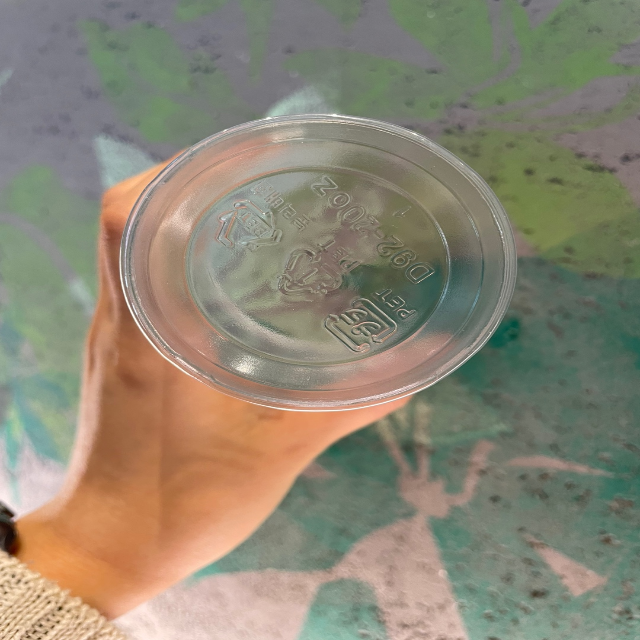pet: (205, 178, 315, 262), (323, 285, 419, 362), (272, 234, 364, 308)
